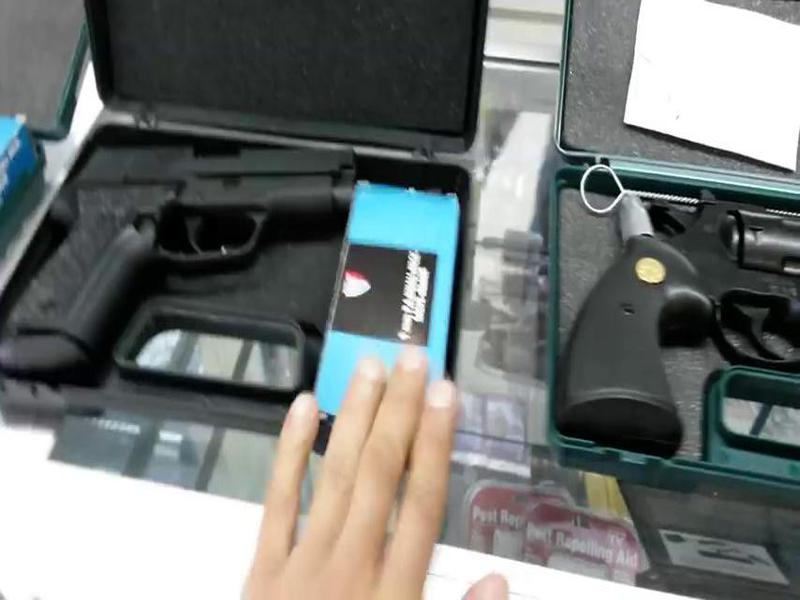Pistola: (8, 124, 394, 372)
